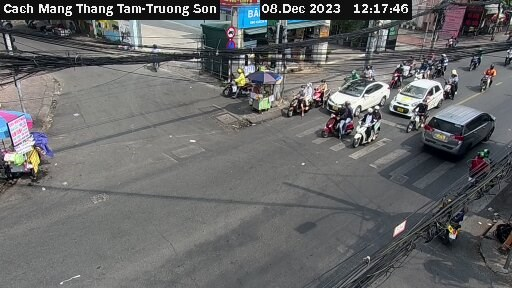car: (425, 100, 491, 155), (332, 78, 389, 115), (390, 78, 441, 115)
motorbike: (422, 193, 472, 238), (465, 153, 500, 191), (354, 112, 385, 148), (287, 88, 316, 117), (327, 107, 354, 136), (478, 66, 504, 96), (221, 75, 251, 99), (442, 73, 468, 99), (311, 76, 331, 102), (468, 51, 488, 71)
